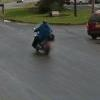Motorcycle: (24, 21, 62, 67)
